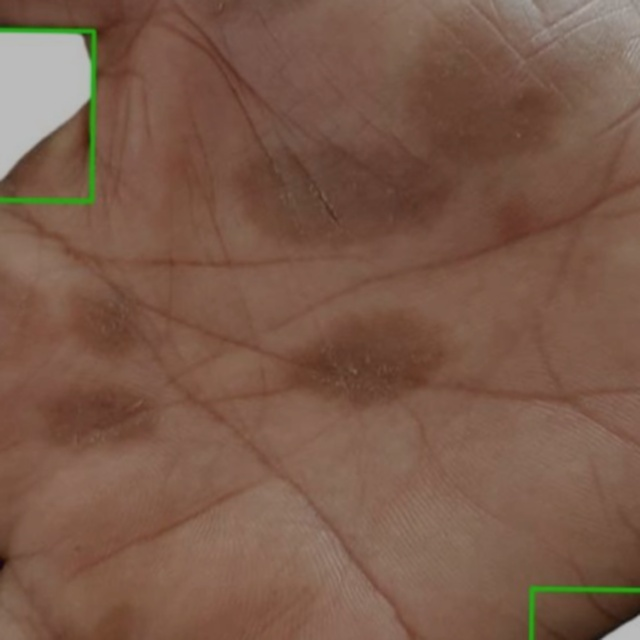Contact Dermatitis: (0, 29, 93, 200)
